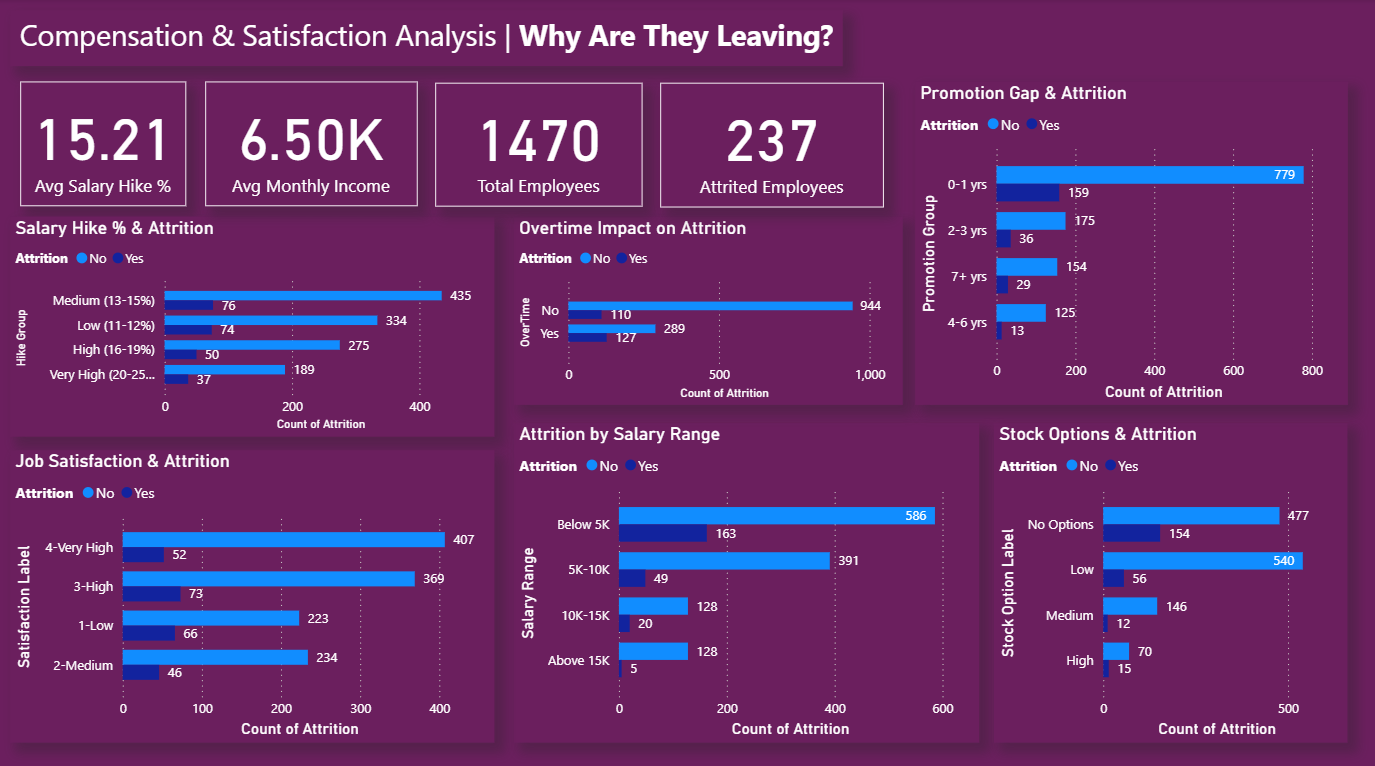

The dashboard page shown, as its layout file describes it:
{"tool":"powerbi","page":{"name":"💰 Why Are They Leaving?","canvas":[1280,720],"ordinal":1},"visuals":[{"type":"textbox","box":[10.5,10.5,774.4,52.3],"z":0},{"type":"card","fields":{"Values":["People_first.Avg Monthly Income"]},"box":[587.2,493,224.4,108.1],"z":1000},{"type":"card","fields":{"Values":["People_first.Avg Salary Hike %"]},"box":[19.8,76.7,154.7,116.3],"z":2000},{"type":"clusteredBarChart","title":"Attrition by Salary Range","fields":{"Category":["People_first.Salary Range"],"Series":["People_first.Attrition"],"Y":["CountNonNull(People_first.Attrition)"]},"box":[479.1,394.2,432.6,297.7],"z":3000},{"type":"clusteredBarChart","title":"Overtime Impact on Attrition","fields":{"Category":["People_first.OverTime"],"Series":["People_first.Attrition"],"Y":["CountNonNull(People_first.Attrition)"]},"box":[479.1,202.3,361.6,175.6],"z":4000},{"type":"clusteredBarChart","title":"Salary Hike % & Attrition","fields":{"Category":["People_first.Hike Group"],"Y":["CountNonNull(People_first.Attrition)"],"Series":["People_first.Attrition"]},"box":[10.5,202.3,450,204.7],"z":5000},{"type":"clusteredBarChart","title":"Stock Options & Attrition","fields":{"Series":["People_first.Attrition"],"Y":["CountNonNull(People_first.Attrition)"],"Category":["People_first.Stock Option Label"]},"box":[925.6,394.2,329.1,297.7],"z":6000},{"type":"clusteredBarChart","title":"Promotion Gap & Attrition","fields":{"Category":["People_first.Promotion Group"],"Y":["CountNonNull(People_first.Attrition)"],"Series":["People_first.Attrition"]},"box":[852.3,76.7,402.3,301.2],"z":7000},{"type":"card","fields":{"Values":["People_first.Avg Monthly Income"]},"box":[191.9,76.7,197.7,116.3],"z":8000},{"type":"clusteredBarChart","title":"Job Satisfaction & Attrition","fields":{"Category":["People_first.Satisfaction Label"],"Series":["People_first.Attrition"],"Y":["CountNonNull(People_first.Attrition)"]},"box":[10.5,419.8,450,272.1],"z":9000},{"type":"card","fields":{"Values":["People_first.Total Employees"]},"box":[405.8,77.9,193,115.1],"z":10000},{"type":"card","fields":{"Values":["People_first.Attrited Employees"]},"box":[615.1,77.9,208.1,116.3],"z":11000}]}

Visuals, with their boxes in screenshot pixels (x1, y1, x2, y2), scaled from the page's 1280x720 canvas onto the 1375x766 screenshot:
textbox: box=[11, 11, 843, 67]
card - People_first.Avg Monthly Income: box=[631, 524, 872, 640]
card - People_first.Avg Salary Hike %: box=[21, 82, 187, 205]
"Attrition by Salary Range" clusteredBarChart: box=[515, 419, 979, 736]
"Overtime Impact on Attrition" clusteredBarChart: box=[515, 215, 903, 402]
"Salary Hike % & Attrition" clusteredBarChart: box=[11, 215, 495, 433]
"Stock Options & Attrition" clusteredBarChart: box=[994, 419, 1348, 736]
"Promotion Gap & Attrition" clusteredBarChart: box=[916, 82, 1348, 402]
card - People_first.Avg Monthly Income: box=[206, 82, 419, 205]
"Job Satisfaction & Attrition" clusteredBarChart: box=[11, 447, 495, 736]
card - People_first.Total Employees: box=[436, 83, 643, 205]
card - People_first.Attrited Employees: box=[661, 83, 884, 207]
